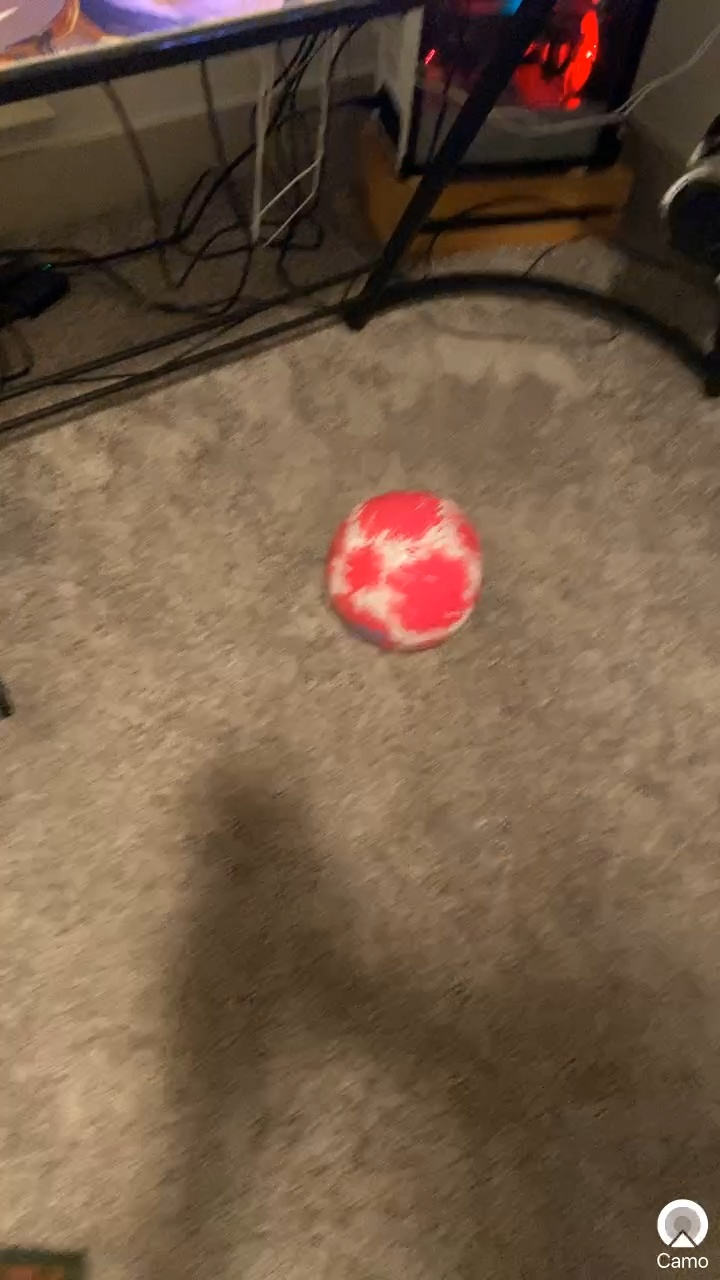Soccer_Ball: (306, 469, 534, 712)
